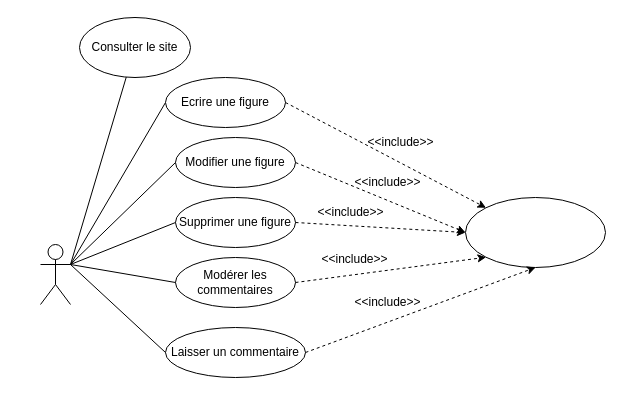
The diagram is 623 pixels wide and 395 high, and some of its shapes have lost their labels. The box of each missing label's shape, as (x1, y1, x2, y2) in pixels:
Administrateur: (40, 244, 70, 304)
S'authentifier: (464, 196, 606, 268)
